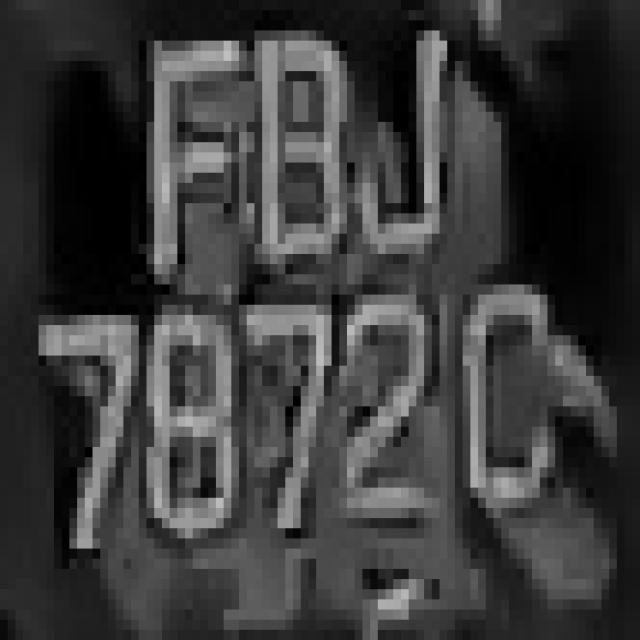2: (355, 295, 447, 528)
7: (216, 284, 347, 548), (16, 284, 131, 559)
8: (139, 304, 247, 548)
B: (231, 21, 370, 284)
C: (455, 274, 555, 508)
F: (131, 41, 224, 274)
J: (347, 21, 470, 284)
